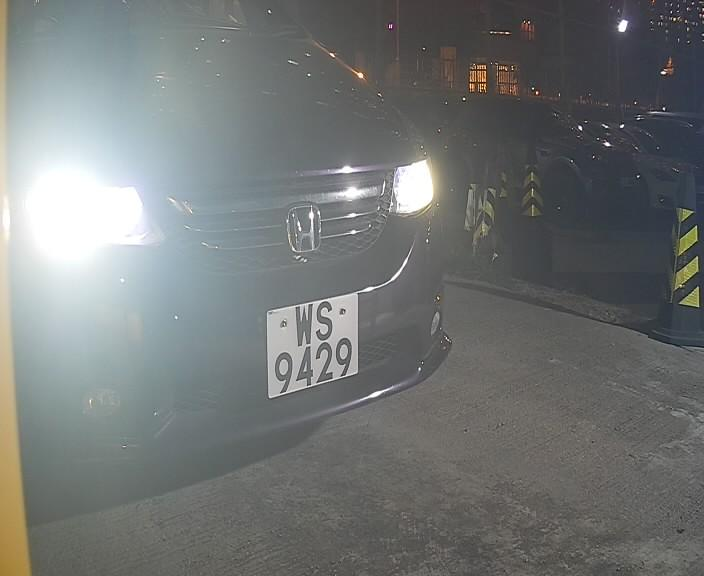License Plate: (258, 283, 365, 407)
